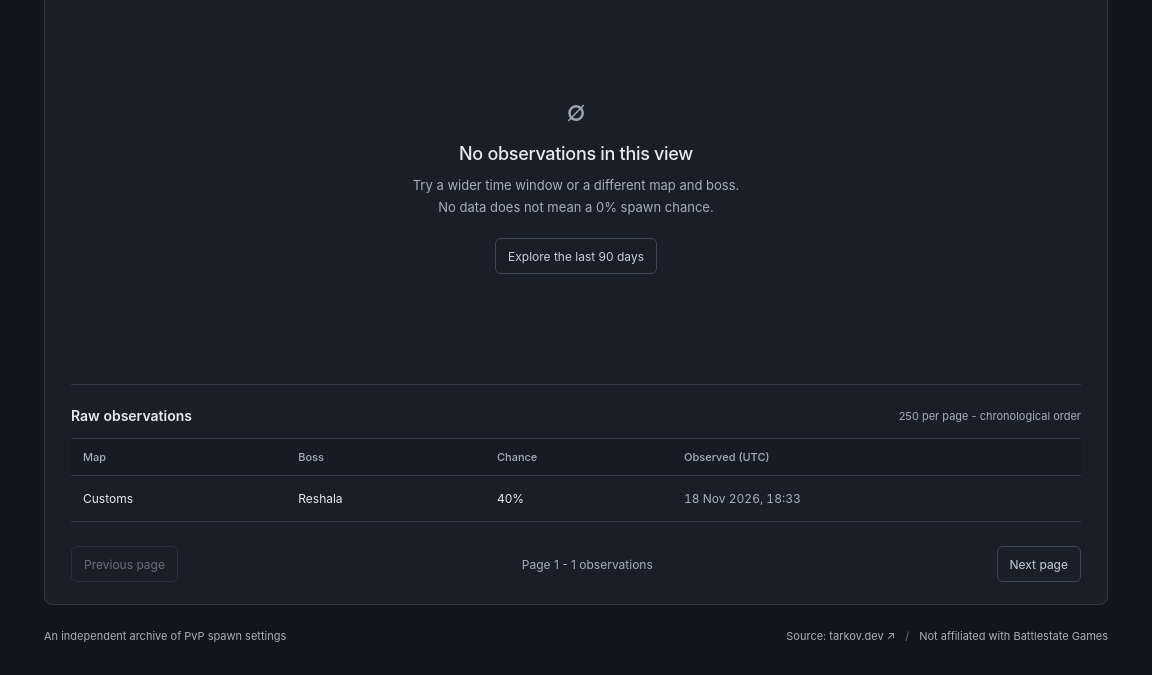
Test: raw pagination aborts replaced requests, rejects stale results and resets with applied filters
(page scrolled)
Click the button "Next page". click: click(1039, 564)
box: [997,546,1081,582]
(page scrolled)
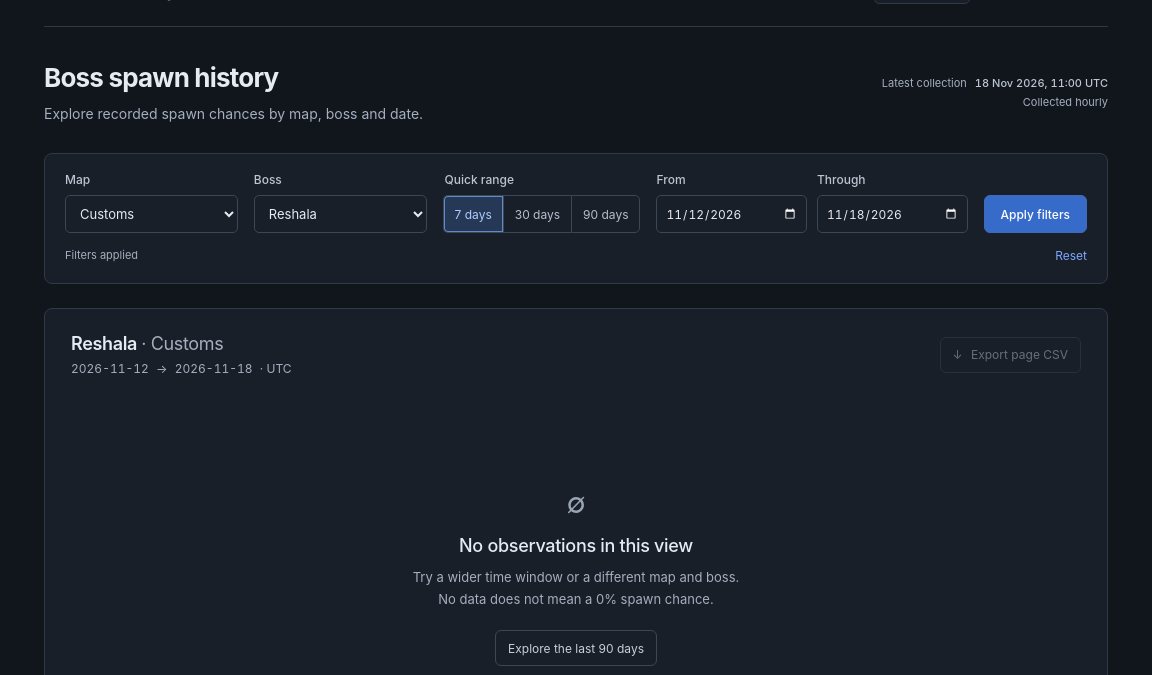
Click the button "30 days". click: click(537, 214)
box: [503,195,571,233]
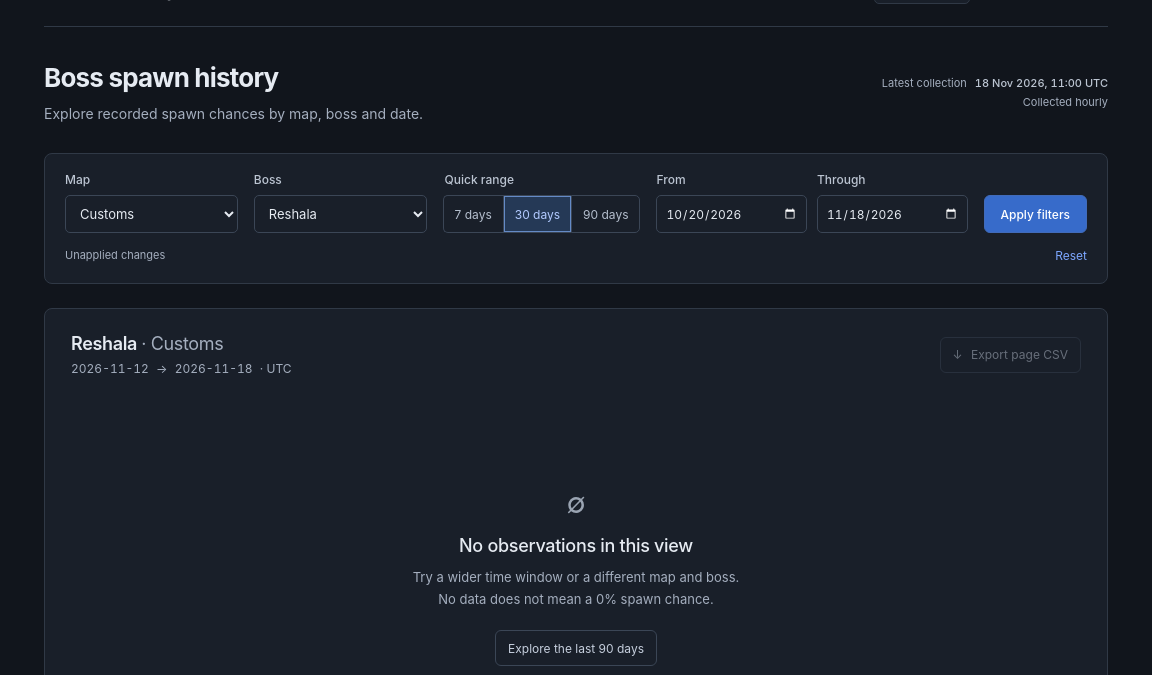
Click the button "Apply filters". click: click(1035, 214)
box: [984,195,1087,233]
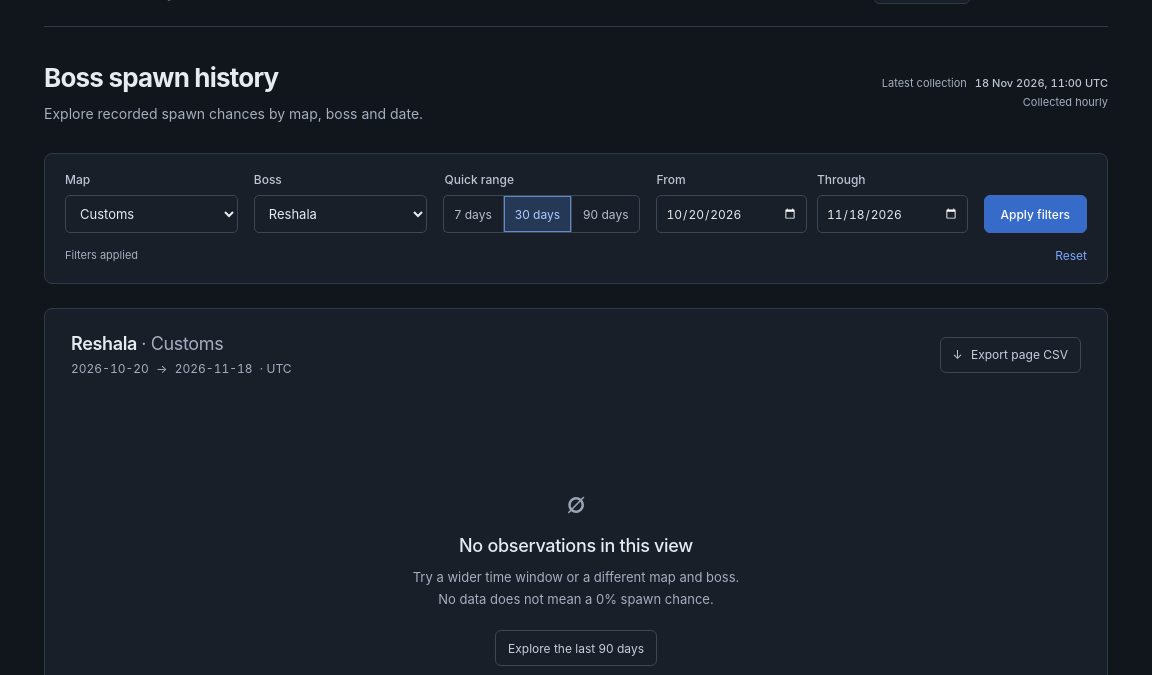
expect the button "↓ Export page CSV" is enabled: met, box [940,337,1081,373]
